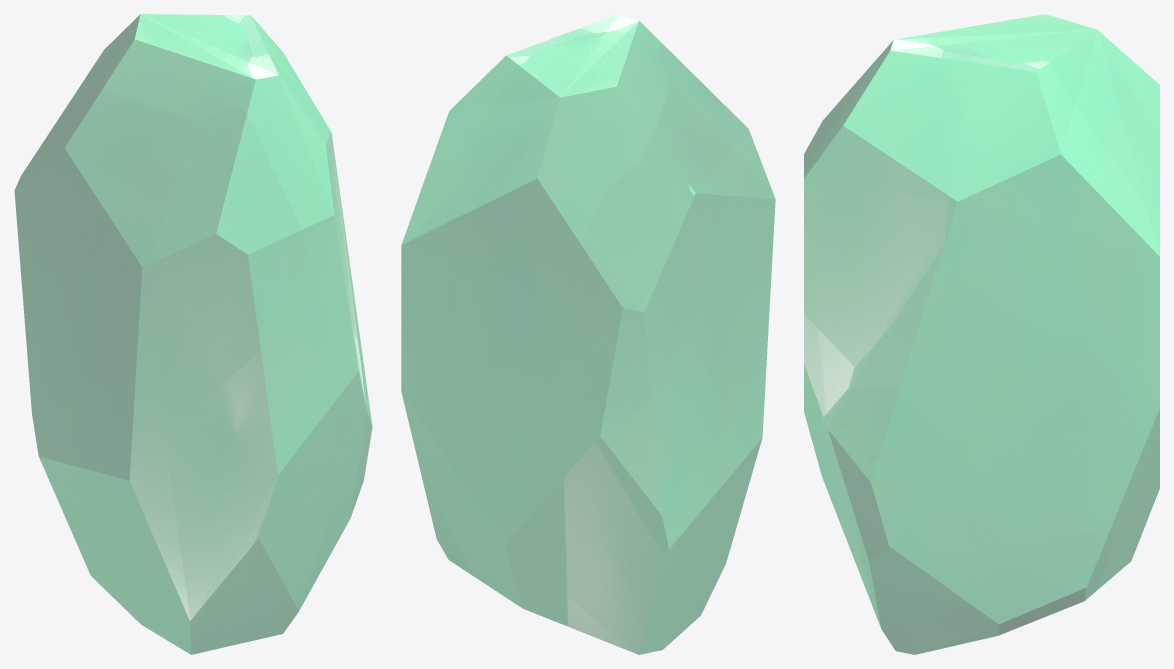
File: gem.gltf
3 views of the same model, side by side, from view 1: azimuth 30°, elevation 25°; view 2: azimuth 150°, elevation 25°; view 3: azimuth 270°, elevation 25° (orthographic). The views are drawn at different scales.
Visible parts, largest first — view 1: Cube; view 2: Cube; view 3: Cube.
Part boxes in pixels (bbox=[...]): Cube: bbox=[14, 14, 372, 654]; Cube: bbox=[401, 14, 775, 654]; Cube: bbox=[804, 14, 1159, 654].
Bounding box in the file's own units: 2.52 × 5.91 × 3.2.
Materials: 1 (1 with a texture image).
